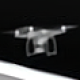plane: (6, 23, 79, 57)
